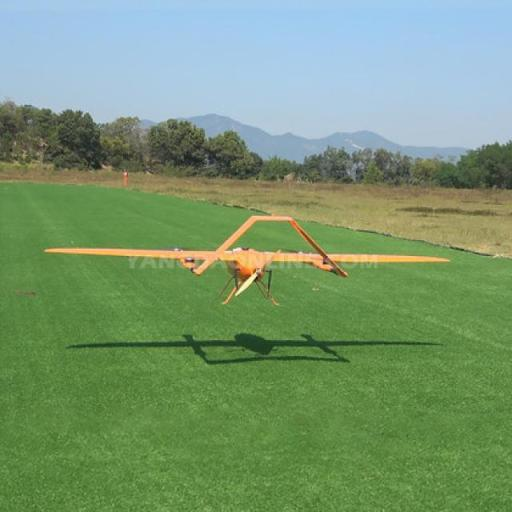uav: (36, 208, 452, 318)
